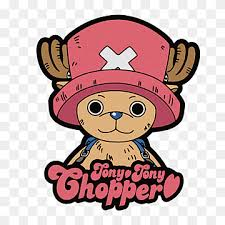chopper: (36, 14, 201, 146)
